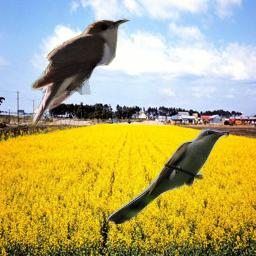Cuckoo: (28, 17, 130, 138), (107, 128, 229, 224)
